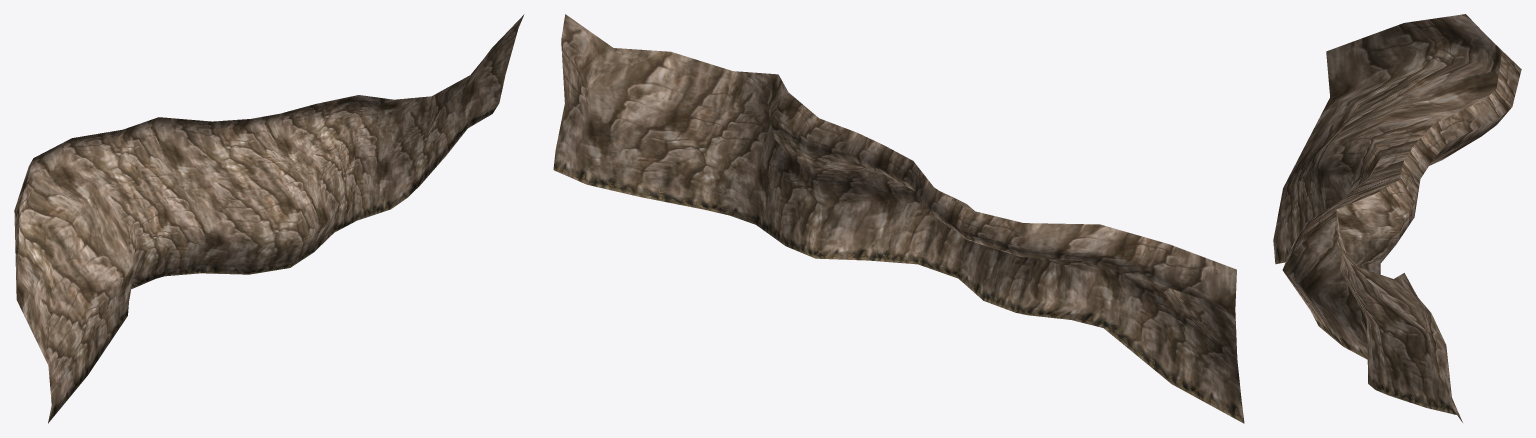
Rendered from OVERHILL_A_01_LINE14.fbx.
The picture shows the model from 3 angles, left to right: view 1: azimuth 30°, elevation 25°; view 2: azimuth 150°, elevation 25°; view 3: azimuth 270°, elevation 25°; orthographic projection. The views are drawn at different scales.
Parts seen in each view (by area): view 1: OVERHILL_A_01_LINE14; view 2: OVERHILL_A_01_LINE14; view 3: OVERHILL_A_01_LINE14.
Part boxes in pixels (x1,y1,x2,y2): OVERHILL_A_01_LINE14: (14,14,524,423); OVERHILL_A_01_LINE14: (553,14,1244,423); OVERHILL_A_01_LINE14: (1273,14,1521,422).
Bounding box in the file's own units: 253917 × 113089 × 72464.
Materials: 2 (2 with a texture image).
